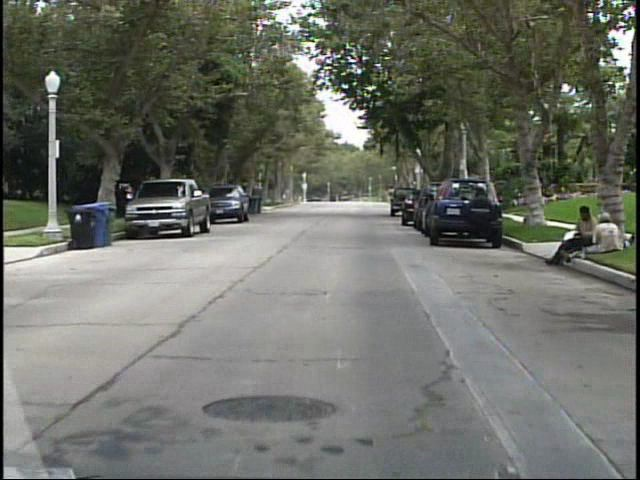person: (545, 205, 593, 268), (586, 211, 620, 254)
